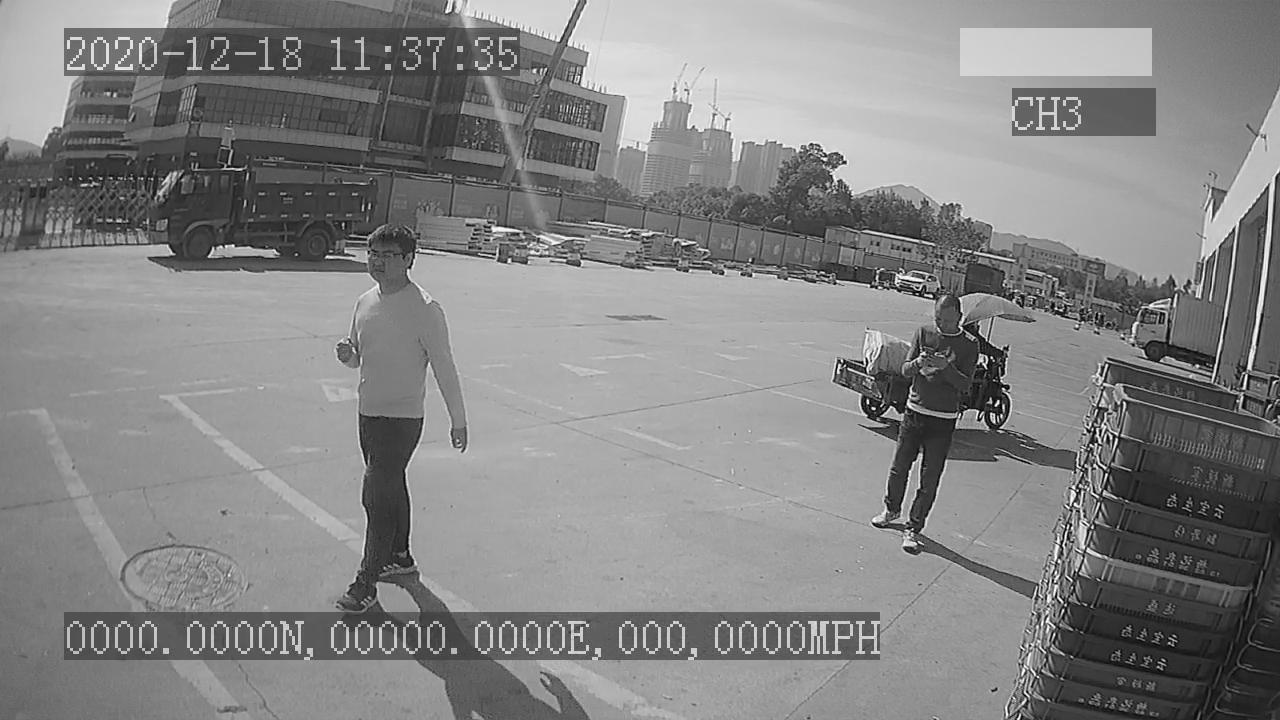person: (330, 226, 469, 610)
